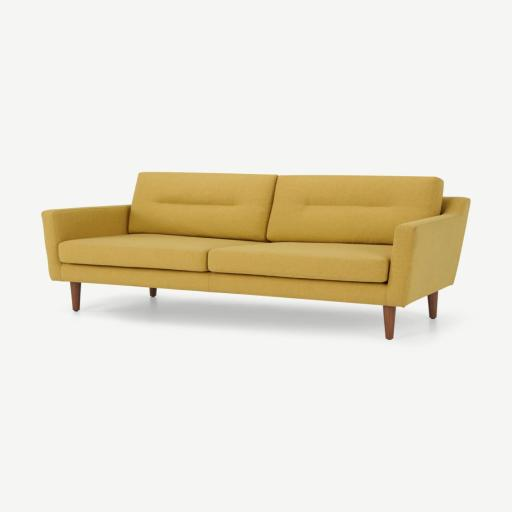back_cushion: (130, 173, 442, 244)
base: (61, 263, 385, 304)
left_arm: (383, 198, 470, 306)
legs: (383, 306, 396, 339), (70, 282, 81, 311), (428, 291, 438, 318), (150, 287, 157, 297)
right_arm: (42, 205, 130, 280)
seat_cushion: (58, 234, 391, 283)
two-seater: (0, 0, 511, 512)
